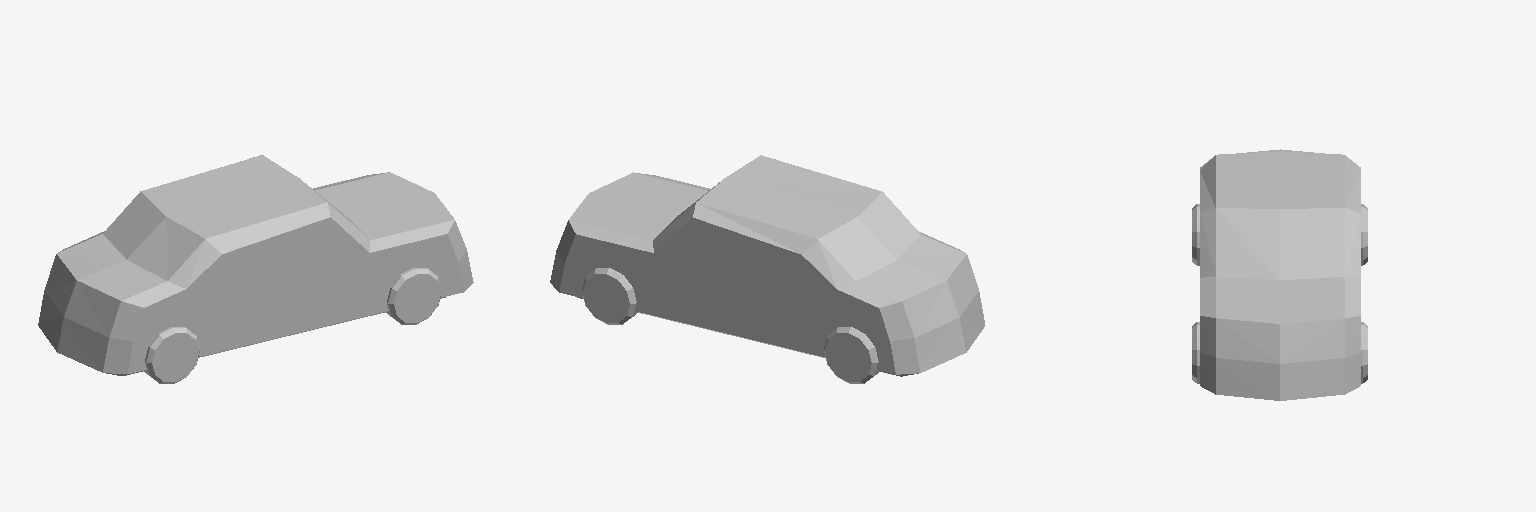
Rendered from Car.obj.
3 views of the same model, side by side, from view 1: azimuth 30°, elevation 25°; view 2: azimuth 150°, elevation 25°; view 3: azimuth 270°, elevation 25° (orthographic).
Parts seen in each view (by area): view 1: pCube2; view 2: pCube2; view 3: pCube2.
Part boxes in pixels (x1,y1,x2,y2): pCube2: (38, 155, 473, 383); pCube2: (550, 155, 984, 383); pCube2: (1192, 149, 1367, 400).
Size of the model in its own units: 6.2 by 2.02 by 2.37.